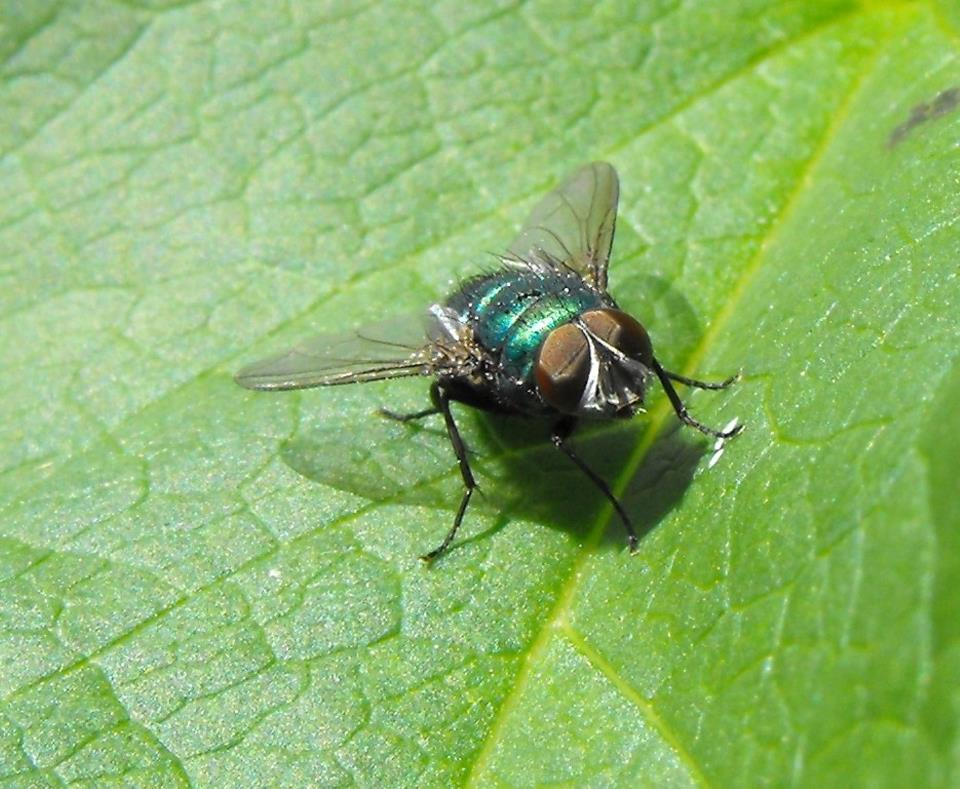green bottles fly: (218, 152, 751, 578)
